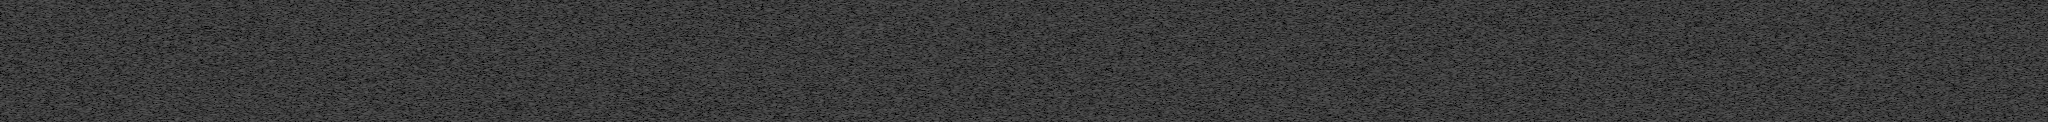wv_am: (624, 0, 637, 122), (795, 0, 805, 122), (138, 0, 146, 122)
wv_cw: (556, 0, 589, 122)
wv_lsb: (662, 3, 670, 122)
wv_usb: (600, 28, 606, 83), (600, 84, 607, 122), (537, 26, 543, 63), (643, 3, 647, 45), (118, 3, 123, 31), (601, 3, 606, 28), (118, 97, 123, 115), (118, 39, 123, 55), (538, 13, 543, 22), (538, 3, 543, 12), (538, 80, 542, 92), (643, 54, 647, 66), (538, 98, 542, 106), (643, 80, 647, 87), (643, 46, 647, 52), (643, 102, 647, 108), (643, 73, 647, 79), (119, 33, 123, 38), (538, 93, 542, 97), (643, 67, 647, 71)
